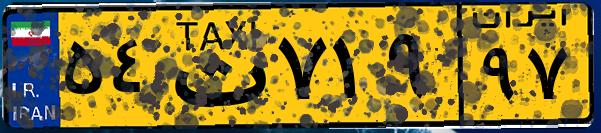1: (330, 28, 385, 110)
4: (110, 28, 158, 98)
5: (57, 26, 110, 100)
7: (270, 28, 330, 110), (525, 38, 570, 115)
9: (385, 28, 445, 110), (475, 38, 525, 113)
ت: (158, 12, 270, 120)
